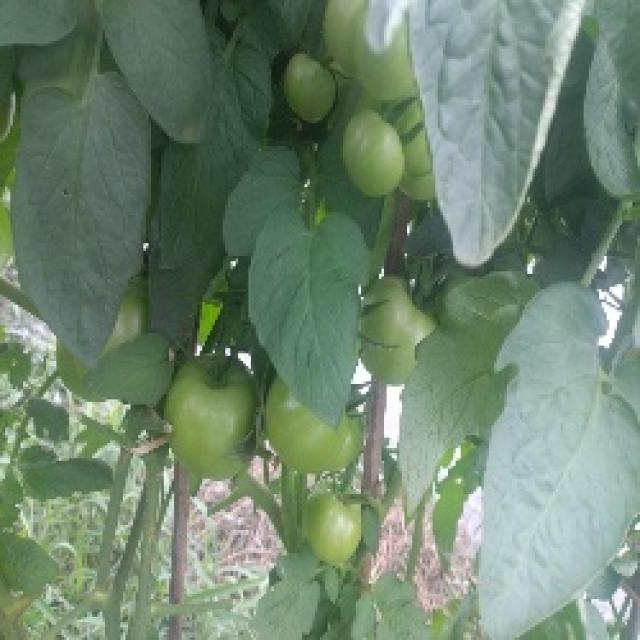tomato: (163, 355, 267, 471), (327, 5, 427, 101), (365, 273, 436, 382), (276, 394, 370, 469), (346, 103, 411, 202), (390, 108, 446, 202), (284, 51, 346, 122), (307, 490, 369, 560), (95, 285, 156, 354), (54, 346, 92, 399)
